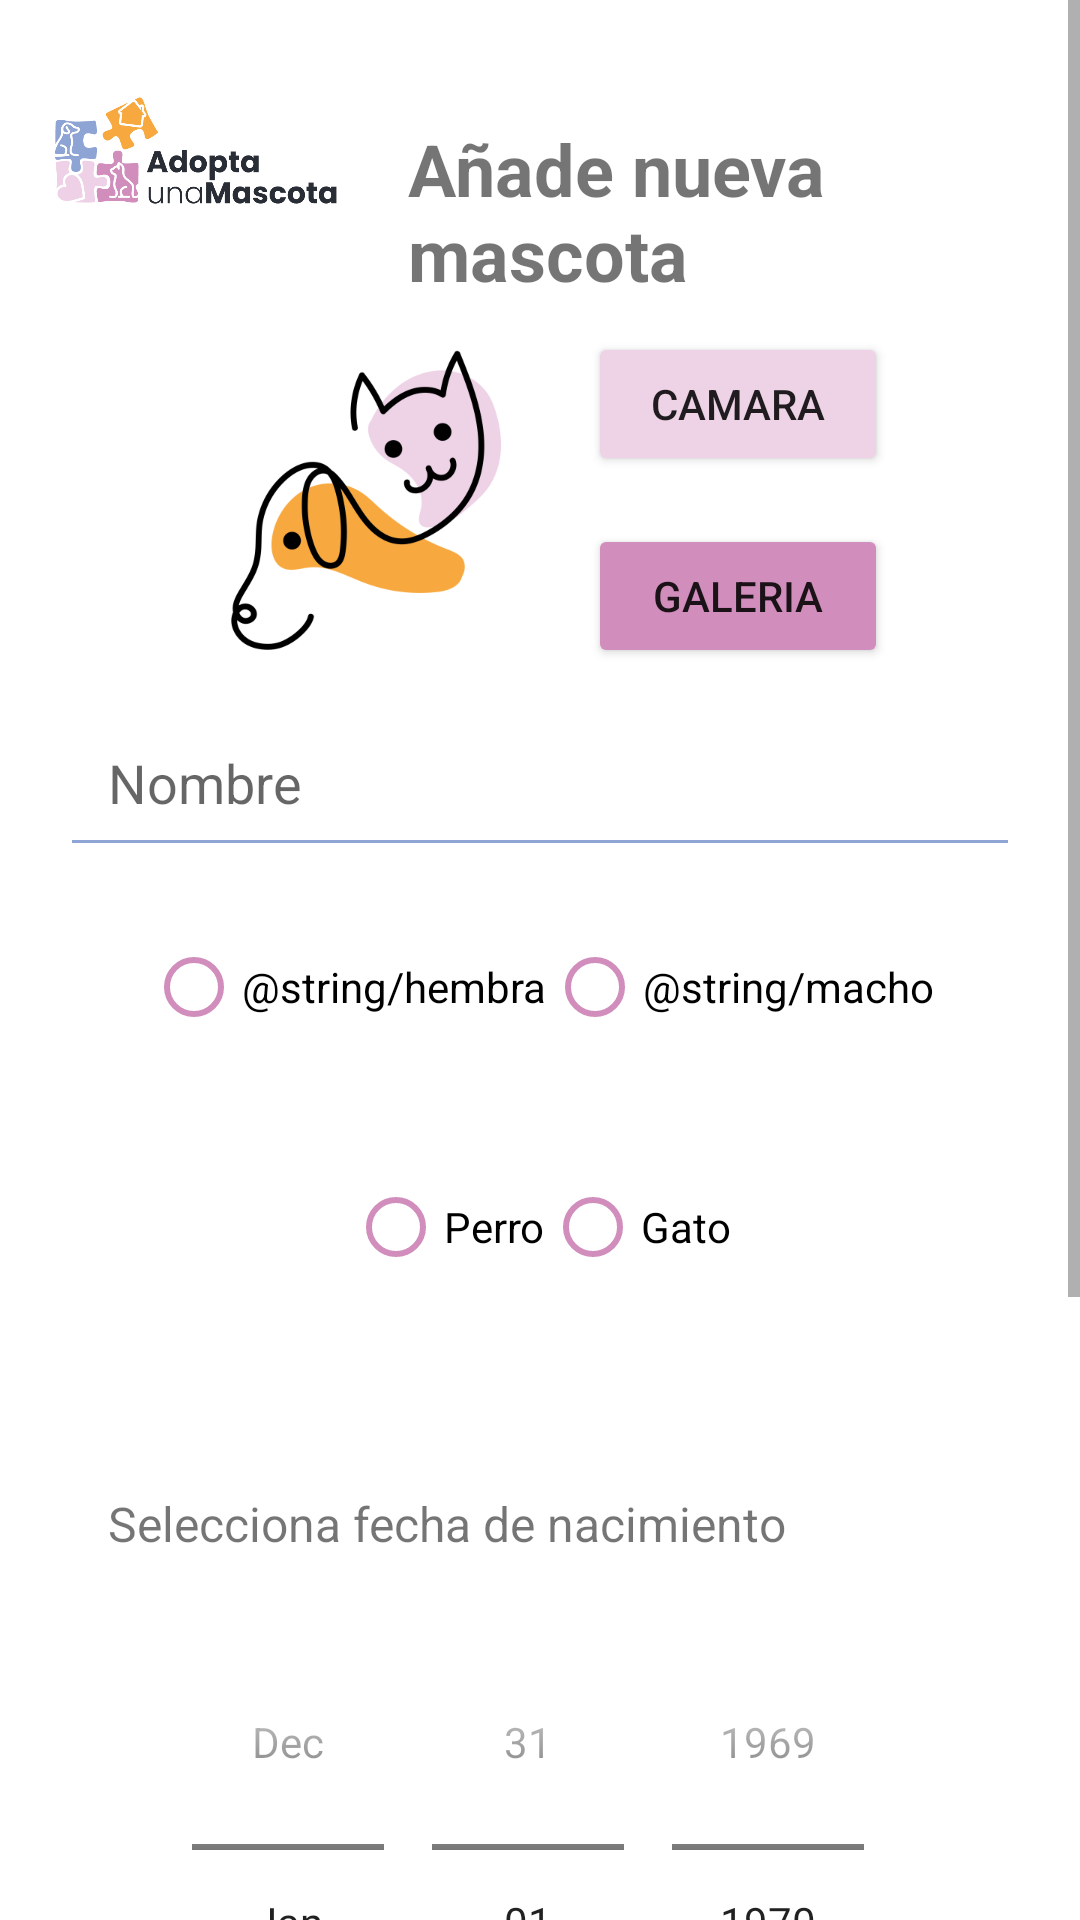

Named icons in this screenshot (1080x1920) and their bounding boxes, rect(x1, y1, x2, y2):
animales: rect(231, 350, 501, 650)
